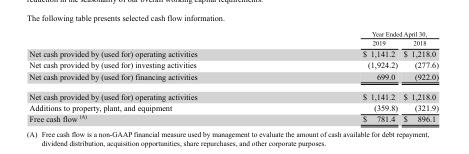table: (28, 29, 437, 123)
table column: (28, 29, 279, 123), (279, 29, 399, 123), (399, 29, 437, 123)
table column header: (28, 29, 437, 47)
table row: (28, 85, 437, 101), (28, 70, 437, 85), (28, 58, 437, 70), (28, 47, 437, 58), (28, 101, 437, 112), (28, 112, 437, 123), (28, 37, 437, 47), (28, 29, 437, 37)
table spanning cell: (279, 29, 437, 37)
